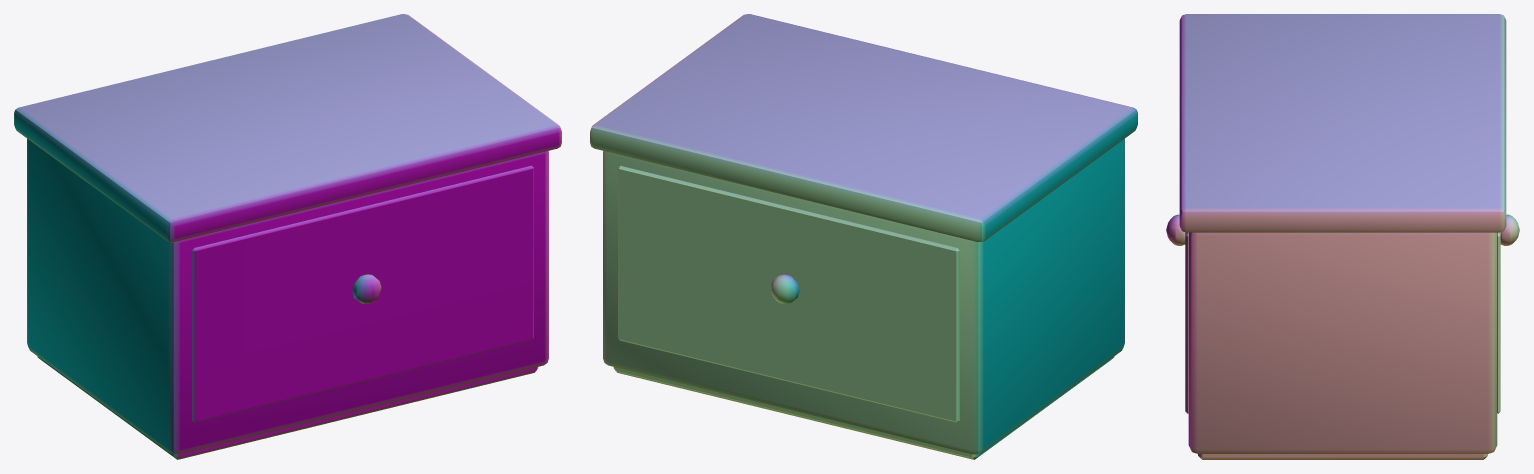
File: env_counter.glb
3 renders of one model, left to right at view 1: azimuth 30°, elevation 25°; view 2: azimuth 150°, elevation 25°; view 3: azimuth 270°, elevation 25°, orthographic. The views are drawn at different scales.
Parts seen in each view (by area): view 1: env_counter_mesh; view 2: env_counter_mesh; view 3: env_counter_mesh.
Boxes of the visible parts, box(x1,y1,x2,y2) form: env_counter_mesh: box(14, 14, 561, 459); env_counter_mesh: box(590, 14, 1137, 459); env_counter_mesh: box(1166, 14, 1519, 459).
Size of the model in its own units: 1.04 by 0.63 by 0.78.
